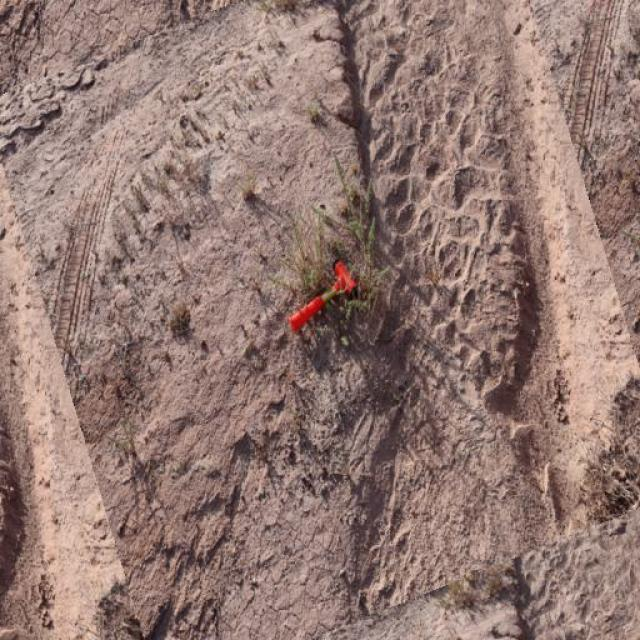mallet: (285, 258, 359, 334)
